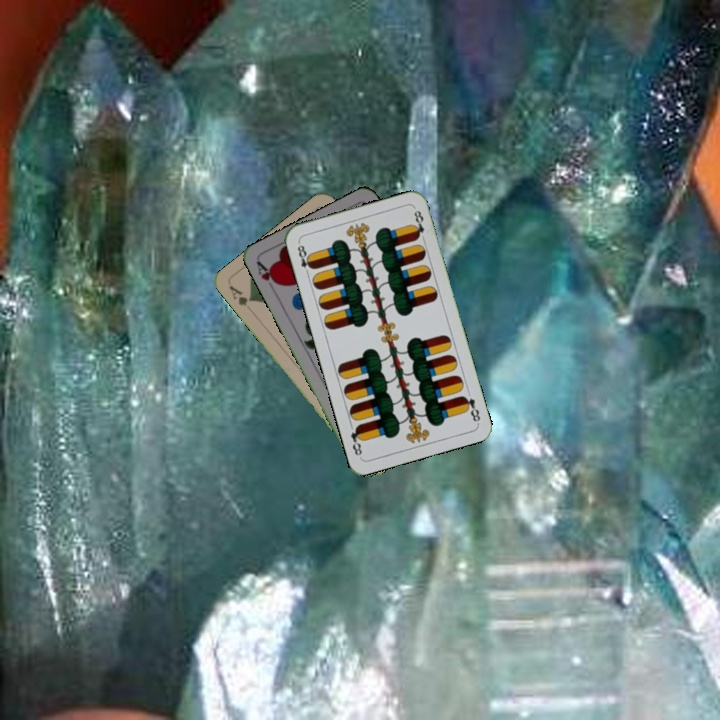E8: (293, 238, 316, 278), (458, 391, 483, 425)
GA: (225, 281, 255, 309)
HA: (253, 258, 282, 295)
